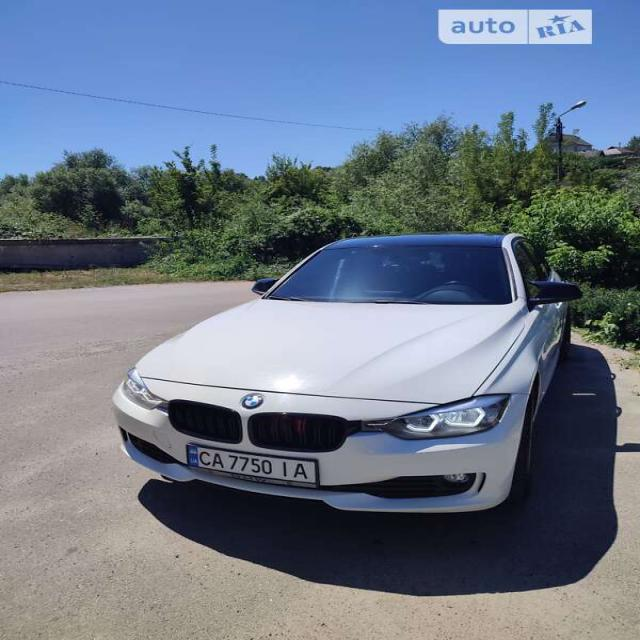plate: (182, 438, 322, 502)
